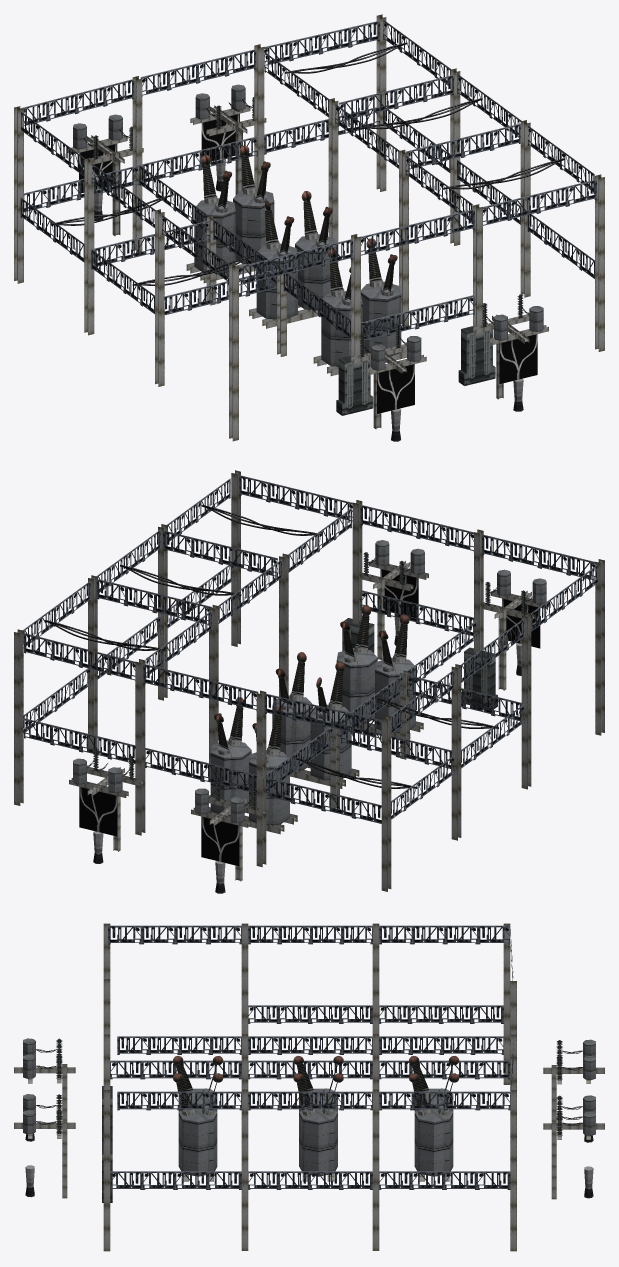
The model's file is elecstionv_sfs.obj.
The picture shows the model from 3 angles, top to bottom: view 1: azimuth 30°, elevation 25°; view 2: azimuth 150°, elevation 25°; view 3: azimuth 270°, elevation 25°; orthographic projection. The views are drawn at different scales.
Parts seen in each view (by area): view 1: elecstionv_SFS; view 2: elecstionv_SFS; view 3: elecstionv_SFS.
Part boxes in pixels (box(x1,y1,x2,y2)): elecstionv_SFS: box(14, 14, 604, 441); elecstionv_SFS: box(14, 470, 604, 893); elecstionv_SFS: box(14, 923, 604, 1251).
Size of the model in its own units: 14.78 by 6.68 by 21.84.
12 materials, 11 textured.
